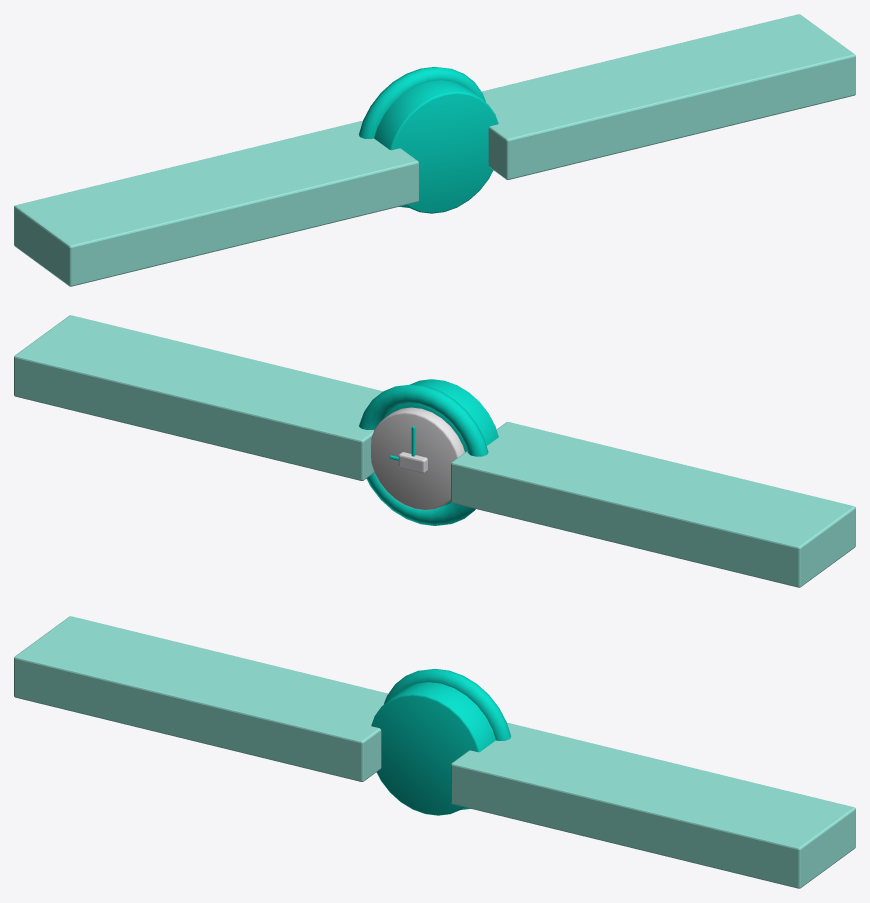
File: VM-NIN-SH38797611.glb
3 views of the same model, one above another, from view 1: azimuth 30°, elevation 25°; view 2: azimuth 150°, elevation 25°; view 3: azimuth 330°, elevation 25° (orthographic).
Parts seen in each view (by area): view 1: Reloj Infantil Con Diseño De Carro; view 2: Reloj Infantil Con Diseño De Carro; view 3: Reloj Infantil Con Diseño De Carro.
Boxes of the visible parts, bbox=[...] form: Reloj Infantil Con Diseño De Carro: bbox=[14, 14, 855, 286]; Reloj Infantil Con Diseño De Carro: bbox=[14, 315, 855, 587]; Reloj Infantil Con Diseño De Carro: bbox=[14, 616, 855, 888].
Size of the model in its own units: 0.2165 by 0.0361 by 0.0271.
